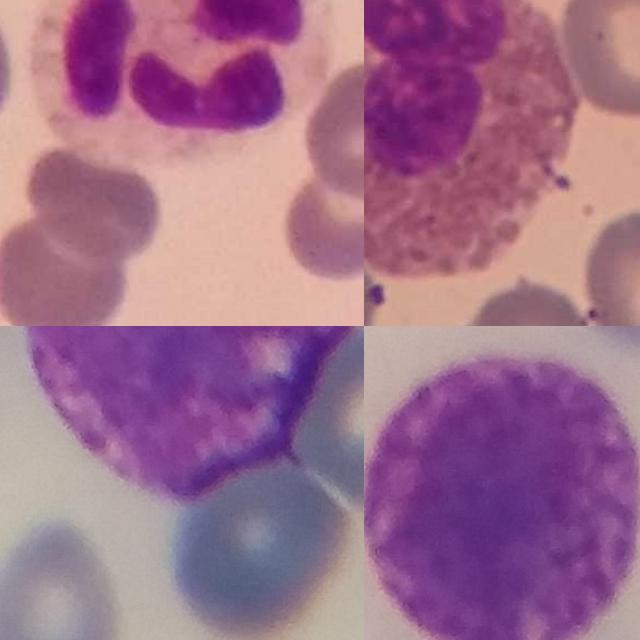Basophil: (364, 356, 640, 640), (19, 326, 351, 498)
Eosinophil: (364, 0, 579, 280)
Neutrophil: (27, 0, 334, 164)
